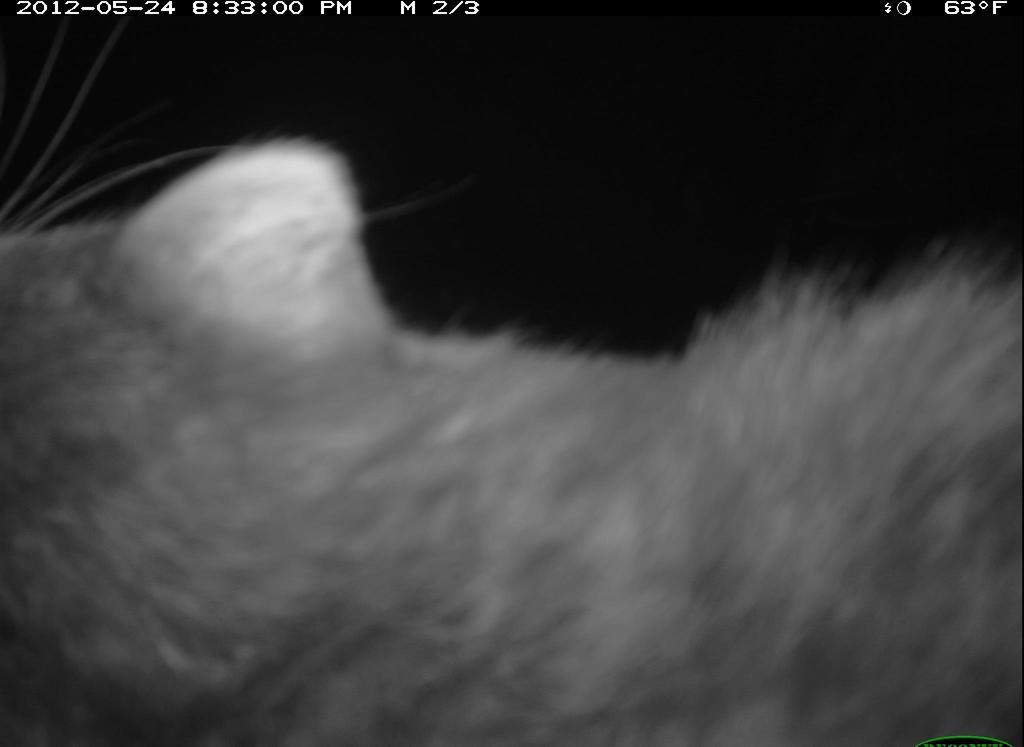raccoon: (3, 122, 1022, 747)
